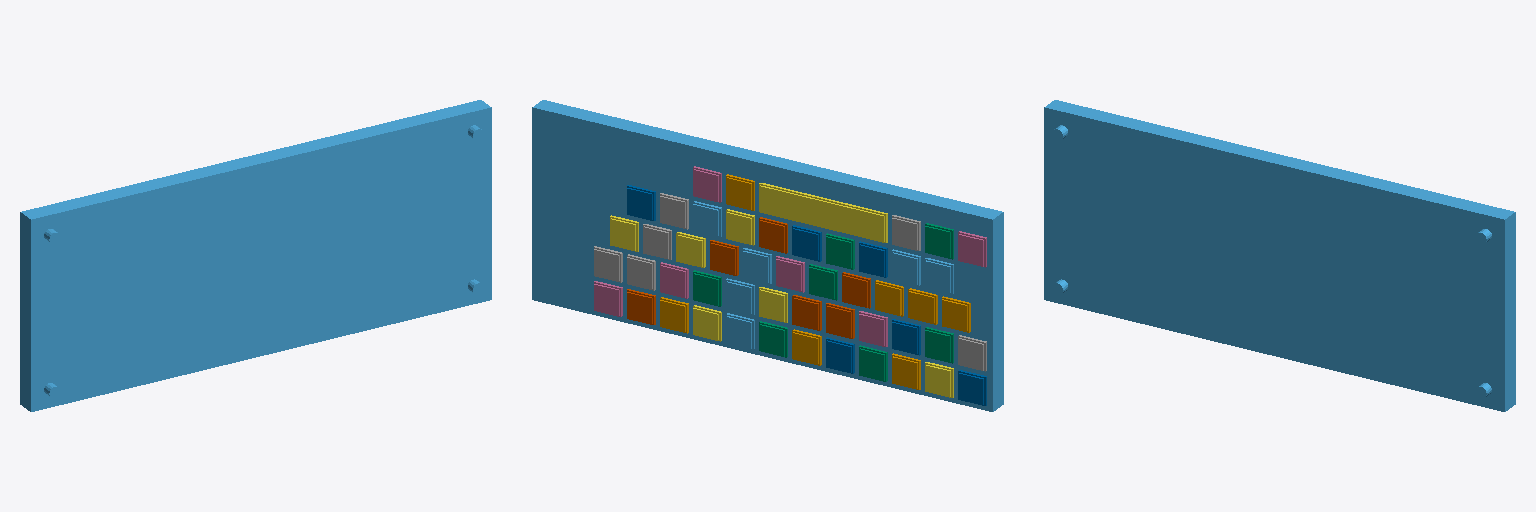
--- Facts derived from the render (not from the file) ---
The picture shows the robot from 3 angles, left to right: view 1: azimuth 30°, elevation 25°; view 2: azimuth 150°, elevation 25°; view 3: azimuth 330°, elevation 25°; orthographic projection.
Model a_keyboard_2 with 52 links and 51 joints (51 prismatic), rooted at base, posed every joint at zero.
Links seen in each view (by area): view 1: base; view 2: base, spacebar, key_r3_c4, key_r0_c5, key_r2_c1, key_r1_c5, key_r2_c8, key_alt_r, key_r0_c2, key_r1_c2, key_r3_c0, key_r3_c5 (+28 smaller); view 3: base.
Link boxes in pixels (x1,y1,x2,y2): base: (20,100,491,411); base: (532,100,1003,411); spacebar: (759,183,887,242); key_r3_c4: (792,225,821,261); key_r0_c5: (792,329,821,365); key_r2_c1: (908,288,937,324); key_r1_c5: (792,295,821,330); key_r2_c8: (676,232,705,267); key_alt_r: (726,174,754,210); key_r0_c2: (892,353,920,389); key_r1_c2: (892,319,920,355); key_r3_c0: (925,258,953,293); key_r3_c5: (759,217,787,253); base: (1044,100,1515,411).
Size in the robot's own frame: 25 by 1.75 by 10 metres.
Meshes: 52 distinct files referenced, 52 mesh visuals loaded (52 OBJ).

The robot description file, URDF, robot "a_keyboard_2":
<?xml version="1.0"?>
<robot name="a_keyboard_2">
  <link name="key_r2_c0">
    <visual>
      <geometry>
        <mesh filename="obj_parts/group_output/key_r2_c0.obj" />
      </geometry>
    </visual>
    <collision>
      <geometry>
        <mesh filename="obj_parts/group_output/key_r2_c0.obj" />
      </geometry>
    </collision>
    <inertial>
      <mass value="1.0" />
      <origin xyz="0 0 0" />
      <inertia ixx="1" ixy="0" ixz="0" iyy="1" iyz="0" izz="1" />
    </inertial>
  </link>
  <link name="base">
    <visual>
      <geometry>
        <mesh filename="obj_parts/group_output/base.obj" />
      </geometry>
    </visual>
    <collision>
      <geometry>
        <mesh filename="obj_parts/group_output/base.obj" />
      </geometry>
    </collision>
    <inertial>
      <mass value="1.0" />
      <origin xyz="0 0 0" />
      <inertia ixx="1" ixy="0" ixz="0" iyy="1" iyz="0" izz="1" />
    </inertial>
  </link>
  <link name="key_r0_c6">
    <visual>
      <geometry>
        <mesh filename="obj_parts/group_output/key_r0_c6.obj" />
      </geometry>
    </visual>
    <collision>
      <geometry>
        <mesh filename="obj_parts/group_output/key_r0_c6.obj" />
      </geometry>
    </collision>
    <inertial>
      <mass value="1.0" />
      <origin xyz="0 0 0" />
      <inertia ixx="1" ixy="0" ixz="0" iyy="1" iyz="0" izz="1" />
    </inertial>
  </link>
  <link name="key_r0_c8">
    <visual>
      <geometry>
        <mesh filename="obj_parts/group_output/key_r0_c8.obj" />
      </geometry>
    </visual>
    <collision>
      <geometry>
        <mesh filename="obj_parts/group_output/key_r0_c8.obj" />
      </geometry>
    </collision>
    <inertial>
      <mass value="1.0" />
      <origin xyz="0 0 0" />
      <inertia ixx="1" ixy="0" ixz="0" iyy="1" iyz="0" izz="1" />
    </inertial>
  </link>
  <link name="key_r1_c2">
    <visual>
      <geometry>
        <mesh filename="obj_parts/group_output/key_r1_c2.obj" />
      </geometry>
    </visual>
    <collision>
      <geometry>
        <mesh filename="obj_parts/group_output/key_r1_c2.obj" />
      </geometry>
    </collision>
    <inertial>
      <mass value="1.0" />
      <origin xyz="0 0 0" />
      <inertia ixx="1" ixy="0" ixz="0" iyy="1" iyz="0" izz="1" />
    </inertial>
  </link>
  <link name="key_r1_c5">
    <visual>
      <geometry>
        <mesh filename="obj_parts/group_output/key_r1_c5.obj" />
      </geometry>
    </visual>
    <collision>
      <geometry>
        <mesh filename="obj_parts/group_output/key_r1_c5.obj" />
      </geometry>
    </collision>
    <inertial>
      <mass value="1.0" />
      <origin xyz="0 0 0" />
      <inertia ixx="1" ixy="0" ixz="0" iyy="1" iyz="0" izz="1" />
    </inertial>
  </link>
  <link name="key_ctrl_r">
    <visual>
      <geometry>
        <mesh filename="obj_parts/group_output/key_ctrl_r.obj" />
      </geometry>
    </visual>
    <collision>
      <geometry>
        <mesh filename="obj_parts/group_output/key_ctrl_r.obj" />
      </geometry>
    </collision>
    <inertial>
      <mass value="1.0" />
      <origin xyz="0 0 0" />
      <inertia ixx="1" ixy="0" ixz="0" iyy="1" iyz="0" izz="1" />
    </inertial>
  </link>
  <link name="key_r1_c10">
    <visual>
      <geometry>
        <mesh filename="obj_parts/group_output/key_r1_c10.obj" />
      </geometry>
    </visual>
    <collision>
      <geometry>
        <mesh filename="obj_parts/group_output/key_r1_c10.obj" />
      </geometry>
    </collision>
    <inertial>
      <mass value="1.0" />
      <origin xyz="0 0 0" />
      <inertia ixx="1" ixy="0" ixz="0" iyy="1" iyz="0" izz="1" />
    </inertial>
  </link>
  <link name="key_alt_r">
    <visual>
      <geometry>
        <mesh filename="obj_parts/group_output/key_alt_r.obj" />
      </geometry>
    </visual>
    <collision>
      <geometry>
        <mesh filename="obj_parts/group_output/key_alt_r.obj" />
      </geometry>
    </collision>
    <inertial>
      <mass value="1.0" />
      <origin xyz="0 0 0" />
      <inertia ixx="1" ixy="0" ixz="0" iyy="1" iyz="0" izz="1" />
    </inertial>
  </link>
  <link name="key_r3_c0">
    <visual>
      <geometry>
        <mesh filename="obj_parts/group_output/key_r3_c0.obj" />
      </geometry>
    </visual>
    <collision>
      <geometry>
        <mesh filename="obj_parts/group_output/key_r3_c0.obj" />
      </geometry>
    </collision>
    <inertial>
      <mass value="1.0" />
      <origin xyz="0 0 0" />
      <inertia ixx="1" ixy="0" ixz="0" iyy="1" iyz="0" izz="1" />
    </inertial>
  </link>
  <link name="key_win_l">
    <visual>
      <geometry>
        <mesh filename="obj_parts/group_output/key_win_l.obj" />
      </geometry>
    </visual>
    <collision>
      <geometry>
        <mesh filename="obj_parts/group_output/key_win_l.obj" />
      </geometry>
    </collision>
    <inertial>
      <mass value="1.0" />
      <origin xyz="0 0 0" />
      <inertia ixx="1" ixy="0" ixz="0" iyy="1" iyz="0" izz="1" />
    </inertial>
  </link>
  <link name="key_r3_c6">
    <visual>
      <geometry>
        <mesh filename="obj_parts/group_output/key_r3_c6.obj" />
      </geometry>
    </visual>
    <collision>
      <geometry>
        <mesh filename="obj_parts/group_output/key_r3_c6.obj" />
      </geometry>
    </collision>
    <inertial>
      <mass value="1.0" />
      <origin xyz="0 0 0" />
      <inertia ixx="1" ixy="0" ixz="0" iyy="1" iyz="0" izz="1" />
    </inertial>
  </link>
  <link name="key_r3_c4">
    <visual>
      <geometry>
        <mesh filename="obj_parts/group_output/key_r3_c4.obj" />
      </geometry>
    </visual>
    <collision>
      <geometry>
        <mesh filename="obj_parts/group_output/key_r3_c4.obj" />
      </geometry>
    </collision>
    <inertial>
      <mass value="1.0" />
      <origin xyz="0 0 0" />
      <inertia ixx="1" ixy="0" ixz="0" iyy="1" iyz="0" izz="1" />
    </inertial>
  </link>
  <link name="key_r3_c5">
    <visual>
      <geometry>
        <mesh filename="obj_parts/group_output/key_r3_c5.obj" />
      </geometry>
    </visual>
    <collision>
      <geometry>
        <mesh filename="obj_parts/group_output/key_r3_c5.obj" />
      </geometry>
    </collision>
    <inertial>
      <mass value="1.0" />
      <origin xyz="0 0 0" />
      <inertia ixx="1" ixy="0" ixz="0" iyy="1" iyz="0" izz="1" />
    </inertial>
  </link>
  <link name="key_r2_c5">
    <visual>
      <geometry>
        <mesh filename="obj_parts/group_output/key_r2_c5.obj" />
      </geometry>
    </visual>
    <collision>
      <geometry>
        <mesh filename="obj_parts/group_output/key_r2_c5.obj" />
      </geometry>
    </collision>
    <inertial>
      <mass value="1.0" />
      <origin xyz="0 0 0" />
      <inertia ixx="1" ixy="0" ixz="0" iyy="1" iyz="0" izz="1" />
    </inertial>
  </link>
  <link name="key_r1_c0">
    <visual>
      <geometry>
        <mesh filename="obj_parts/group_output/key_r1_c0.obj" />
      </geometry>
    </visual>
    <collision>
      <geometry>
        <mesh filename="obj_parts/group_output/key_r1_c0.obj" />
      </geometry>
    </collision>
    <inertial>
      <mass value="1.0" />
      <origin xyz="0 0 0" />
      <inertia ixx="1" ixy="0" ixz="0" iyy="1" iyz="0" izz="1" />
    </inertial>
  </link>
  <link name="key_r0_c5">
    <visual>
      <geometry>
        <mesh filename="obj_parts/group_output/key_r0_c5.obj" />
      </geometry>
    </visual>
    <collision>
      <geometry>
        <mesh filename="obj_parts/group_output/key_r0_c5.obj" />
      </geometry>
    </collision>
    <inertial>
      <mass value="1.0" />
      <origin xyz="0 0 0" />
      <inertia ixx="1" ixy="0" ixz="0" iyy="1" iyz="0" izz="1" />
    </inertial>
  </link>
  <link name="key_r3_c1">
    <visual>
      <geometry>
        <mesh filename="obj_parts/group_output/key_r3_c1.obj" />
      </geometry>
    </visual>
    <collision>
      <geometry>
        <mesh filename="obj_parts/group_output/key_r3_c1.obj" />
      </geometry>
    </collision>
    <inertial>
      <mass value="1.0" />
      <origin xyz="0 0 0" />
      <inertia ixx="1" ixy="0" ixz="0" iyy="1" iyz="0" izz="1" />
    </inertial>
  </link>
  <link name="key_r2_c4">
    <visual>
      <geometry>
        <mesh filename="obj_parts/group_output/key_r2_c4.obj" />
      </geometry>
    </visual>
    <collision>
      <geometry>
        <mesh filename="obj_parts/group_output/key_r2_c4.obj" />
      </geometry>
    </collision>
    <inertial>
      <mass value="1.0" />
      <origin xyz="0 0 0" />
      <inertia ixx="1" ixy="0" ixz="0" iyy="1" iyz="0" izz="1" />
    </inertial>
  </link>
  <link name="key_r1_c6">
    <visual>
      <geometry>
        <mesh filename="obj_parts/group_output/key_r1_c6.obj" />
      </geometry>
    </visual>
    <collision>
      <geometry>
        <mesh filename="obj_parts/group_output/key_r1_c6.obj" />
      </geometry>
    </collision>
    <inertial>
      <mass value="1.0" />
      <origin xyz="0 0 0" />
      <inertia ixx="1" ixy="0" ixz="0" iyy="1" iyz="0" izz="1" />
    </inertial>
  </link>
  <link name="key_r3_c2">
    <visual>
      <geometry>
        <mesh filename="obj_parts/group_output/key_r3_c2.obj" />
      </geometry>
    </visual>
    <collision>
      <geometry>
        <mesh filename="obj_parts/group_output/key_r3_c2.obj" />
      </geometry>
    </collision>
    <inertial>
      <mass value="1.0" />
      <origin xyz="0 0 0" />
      <inertia ixx="1" ixy="0" ixz="0" iyy="1" iyz="0" izz="1" />
    </inertial>
  </link>
  <link name="key_r2_c7">
    <visual>
      <geometry>
        <mesh filename="obj_parts/group_output/key_r2_c7.obj" />
      </geometry>
    </visual>
    <collision>
      <geometry>
        <mesh filename="obj_parts/group_output/key_r2_c7.obj" />
      </geometry>
    </collision>
    <inertial>
      <mass value="1.0" />
      <origin xyz="0 0 0" />
      <inertia ixx="1" ixy="0" ixz="0" iyy="1" iyz="0" izz="1" />
    </inertial>
  </link>
  <link name="key_ctrl_l">
    <visual>
      <geometry>
        <mesh filename="obj_parts/group_output/key_ctrl_l.obj" />
      </geometry>
    </visual>
    <collision>
      <geometry>
        <mesh filename="obj_parts/group_output/key_ctrl_l.obj" />
      </geometry>
    </collision>
    <inertial>
      <mass value="1.0" />
      <origin xyz="0 0 0" />
      <inertia ixx="1" ixy="0" ixz="0" iyy="1" iyz="0" izz="1" />
    </inertial>
  </link>
  <link name="key_alt_l">
    <visual>
      <geometry>
        <mesh filename="obj_parts/group_output/key_alt_l.obj" />
      </geometry>
    </visual>
    <collision>
      <geometry>
        <mesh filename="obj_parts/group_output/key_alt_l.obj" />
      </geometry>
    </collision>
    <inertial>
      <mass value="1.0" />
      <origin xyz="0 0 0" />
      <inertia ixx="1" ixy="0" ixz="0" iyy="1" iyz="0" izz="1" />
    </inertial>
  </link>
  <link name="key_r0_c9">
    <visual>
      <geometry>
        <mesh filename="obj_parts/group_output/key_r0_c9.obj" />
      </geometry>
    </visual>
    <collision>
      <geometry>
        <mesh filename="obj_parts/group_output/key_r0_c9.obj" />
      </geometry>
    </collision>
    <inertial>
      <mass value="1.0" />
      <origin xyz="0 0 0" />
      <inertia ixx="1" ixy="0" ixz="0" iyy="1" iyz="0" izz="1" />
    </inertial>
  </link>
  <link name="key_r2_c6">
    <visual>
      <geometry>
        <mesh filename="obj_parts/group_output/key_r2_c6.obj" />
      </geometry>
    </visual>
    <collision>
      <geometry>
        <mesh filename="obj_parts/group_output/key_r2_c6.obj" />
      </geometry>
    </collision>
    <inertial>
      <mass value="1.0" />
      <origin xyz="0 0 0" />
      <inertia ixx="1" ixy="0" ixz="0" iyy="1" iyz="0" izz="1" />
    </inertial>
  </link>
  <link name="key_r1_c1">
    <visual>
      <geometry>
        <mesh filename="obj_parts/group_output/key_r1_c1.obj" />
      </geometry>
    </visual>
    <collision>
      <geometry>
        <mesh filename="obj_parts/group_output/key_r1_c1.obj" />
      </geometry>
    </collision>
    <inertial>
      <mass value="1.0" />
      <origin xyz="0 0 0" />
      <inertia ixx="1" ixy="0" ixz="0" iyy="1" iyz="0" izz="1" />
    </inertial>
  </link>
  <link name="key_r2_c8">
    <visual>
      <geometry>
        <mesh filename="obj_parts/group_output/key_r2_c8.obj" />
      </geometry>
    </visual>
    <collision>
      <geometry>
        <mesh filename="obj_parts/group_output/key_r2_c8.obj" />
      </geometry>
    </collision>
    <inertial>
      <mass value="1.0" />
      <origin xyz="0 0 0" />
      <inertia ixx="1" ixy="0" ixz="0" iyy="1" iyz="0" izz="1" />
    </inertial>
  </link>
  <link name="key_r0_c0">
    <visual>
      <geometry>
        <mesh filename="obj_parts/group_output/key_r0_c0.obj" />
      </geometry>
    </visual>
    <collision>
      <geometry>
        <mesh filename="obj_parts/group_output/key_r0_c0.obj" />
      </geometry>
    </collision>
    <inertial>
      <mass value="1.0" />
      <origin xyz="0 0 0" />
      <inertia ixx="1" ixy="0" ixz="0" iyy="1" iyz="0" izz="1" />
    </inertial>
  </link>
  <link name="key_r2_c3">
    <visual>
      <geometry>
        <mesh filename="obj_parts/group_output/key_r2_c3.obj" />
      </geometry>
    </visual>
    <collision>
      <geometry>
        <mesh filename="obj_parts/group_output/key_r2_c3.obj" />
      </geometry>
    </collision>
    <inertial>
      <mass value="1.0" />
      <origin xyz="0 0 0" />
      <inertia ixx="1" ixy="0" ixz="0" iyy="1" iyz="0" izz="1" />
    </inertial>
  </link>
  <link name="key_r1_c3">
    <visual>
      <geometry>
        <mesh filename="obj_parts/group_output/key_r1_c3.obj" />
      </geometry>
    </visual>
    <collision>
      <geometry>
        <mesh filename="obj_parts/group_output/key_r1_c3.obj" />
      </geometry>
    </collision>
    <inertial>
      <mass value="1.0" />
      <origin xyz="0 0 0" />
      <inertia ixx="1" ixy="0" ixz="0" iyy="1" iyz="0" izz="1" />
    </inertial>
  </link>
  <link name="key_r3_c8">
    <visual>
      <geometry>
        <mesh filename="obj_parts/group_output/key_r3_c8.obj" />
      </geometry>
    </visual>
    <collision>
      <geometry>
        <mesh filename="obj_parts/group_output/key_r3_c8.obj" />
      </geometry>
    </collision>
    <inertial>
      <mass value="1.0" />
      <origin xyz="0 0 0" />
      <inertia ixx="1" ixy="0" ixz="0" iyy="1" iyz="0" izz="1" />
    </inertial>
  </link>
  <link name="key_r0_c2">
    <visual>
      <geometry>
        <mesh filename="obj_parts/group_output/key_r0_c2.obj" />
      </geometry>
    </visual>
    <collision>
      <geometry>
        <mesh filename="obj_parts/group_output/key_r0_c2.obj" />
      </geometry>
    </collision>
    <inertial>
      <mass value="1.0" />
      <origin xyz="0 0 0" />
      <inertia ixx="1" ixy="0" ixz="0" iyy="1" iyz="0" izz="1" />
    </inertial>
  </link>
  <link name="key_r1_c7">
    <visual>
      <geometry>
        <mesh filename="obj_parts/group_output/key_r1_c7.obj" />
      </geometry>
    </visual>
    <collision>
      <geometry>
        <mesh filename="obj_parts/group_output/key_r1_c7.obj" />
      </geometry>
    </collision>
    <inertial>
      <mass value="1.0" />
      <origin xyz="0 0 0" />
      <inertia ixx="1" ixy="0" ixz="0" iyy="1" iyz="0" izz="1" />
    </inertial>
  </link>
  <link name="key_r3_c3">
    <visual>
      <geometry>
        <mesh filename="obj_parts/group_output/key_r3_c3.obj" />
      </geometry>
    </visual>
    <collision>
      <geometry>
        <mesh filename="obj_parts/group_output/key_r3_c3.obj" />
      </geometry>
    </collision>
    <inertial>
      <mass value="1.0" />
      <origin xyz="0 0 0" />
      <inertia ixx="1" ixy="0" ixz="0" iyy="1" iyz="0" izz="1" />
    </inertial>
  </link>
  <link name="spacebar">
    <visual>
      <geometry>
        <mesh filename="obj_parts/group_output/spacebar.obj" />
      </geometry>
    </visual>
    <collision>
      <geometry>
        <mesh filename="obj_parts/group_output/spacebar.obj" />
      </geometry>
    </collision>
    <inertial>
      <mass value="1.0" />
      <origin xyz="0 0 0" />
      <inertia ixx="1" ixy="0" ixz="0" iyy="1" iyz="0" izz="1" />
    </inertial>
  </link>
  <link name="key_r0_c4">
    <visual>
      <geometry>
        <mesh filename="obj_parts/group_output/key_r0_c4.obj" />
      </geometry>
    </visual>
    <collision>
      <geometry>
        <mesh filename="obj_parts/group_output/key_r0_c4.obj" />
      </geometry>
    </collision>
    <inertial>
      <mass value="1.0" />
      <origin xyz="0 0 0" />
      <inertia ixx="1" ixy="0" ixz="0" iyy="1" iyz="0" izz="1" />
    </inertial>
  </link>
  <link name="key_r1_c4">
    <visual>
      <geometry>
        <mesh filename="obj_parts/group_output/key_r1_c4.obj" />
      </geometry>
    </visual>
    <collision>
      <geometry>
        <mesh filename="obj_parts/group_output/key_r1_c4.obj" />
      </geometry>
    </collision>
    <inertial>
      <mass value="1.0" />
      <origin xyz="0 0 0" />
      <inertia ixx="1" ixy="0" ixz="0" iyy="1" iyz="0" izz="1" />
    </inertial>
  </link>
  <link name="key_r1_c9">
    <visual>
      <geometry>
        <mesh filename="obj_parts/group_output/key_r1_c9.obj" />
      </geometry>
    </visual>
    <collision>
      <geometry>
        <mesh filename="obj_parts/group_output/key_r1_c9.obj" />
      </geometry>
    </collision>
    <inertial>
      <mass value="1.0" />
      <origin xyz="0 0 0" />
      <inertia ixx="1" ixy="0" ixz="0" iyy="1" iyz="0" izz="1" />
    </inertial>
  </link>
  <link name="key_r2_c9">
    <visual>
      <geometry>
        <mesh filename="obj_parts/group_output/key_r2_c9.obj" />
      </geometry>
    </visual>
    <collision>
      <geometry>
        <mesh filename="obj_parts/group_output/key_r2_c9.obj" />
      </geometry>
    </collision>
    <inertial>
      <mass value="1.0" />
      <origin xyz="0 0 0" />
      <inertia ixx="1" ixy="0" ixz="0" iyy="1" iyz="0" izz="1" />
    </inertial>
  </link>
  <link name="key_r2_c1">
    <visual>
      <geometry>
        <mesh filename="obj_parts/group_output/key_r2_c1.obj" />
      </geometry>
    </visual>
    <collision>
      <geometry>
        <mesh filename="obj_parts/group_output/key_r2_c1.obj" />
      </geometry>
    </collision>
    <inertial>
      <mass value="1.0" />
      <origin xyz="0 0 0" />
      <inertia ixx="1" ixy="0" ixz="0" iyy="1" iyz="0" izz="1" />
    </inertial>
  </link>
  <link name="key_r3_c7">
    <visual>
      <geometry>
        <mesh filename="obj_parts/group_output/key_r3_c7.obj" />
      </geometry>
    </visual>
    <collision>
      <geometry>
        <mesh filename="obj_parts/group_output/key_r3_c7.obj" />
      </geometry>
    </collision>
    <inertial>
      <mass value="1.0" />
      <origin xyz="0 0 0" />
      <inertia ixx="1" ixy="0" ixz="0" iyy="1" iyz="0" izz="1" />
    </inertial>
  </link>
  <link name="key_r1_c8">
    <visual>
      <geometry>
        <mesh filename="obj_parts/group_output/key_r1_c8.obj" />
      </geometry>
    </visual>
    <collision>
      <geometry>
        <mesh filename="obj_parts/group_output/key_r1_c8.obj" />
      </geometry>
    </collision>
    <inertial>
      <mass value="1.0" />
      <origin xyz="0 0 0" />
      <inertia ixx="1" ixy="0" ixz="0" iyy="1" iyz="0" izz="1" />
    </inertial>
  </link>
  <link name="key_r2_c10">
    <visual>
      <geometry>
        <mesh filename="obj_parts/group_output/key_r2_c10.obj" />
      </geometry>
    </visual>
    <collision>
      <geometry>
        <mesh filename="obj_parts/group_output/key_r2_c10.obj" />
      </geometry>
    </collision>
    <inertial>
      <mass value="1.0" />
      <origin xyz="0 0 0" />
      <inertia ixx="1" ixy="0" ixz="0" iyy="1" iyz="0" izz="1" />
    </inertial>
  </link>
  <link name="key_r3_c9">
    <visual>
      <geometry>
        <mesh filename="obj_parts/group_output/key_r3_c9.obj" />
      </geometry>
    </visual>
    <collision>
      <geometry>
        <mesh filename="obj_parts/group_output/key_r3_c9.obj" />
      </geometry>
    </collision>
    <inertial>
      <mass value="1.0" />
      <origin xyz="0 0 0" />
      <inertia ixx="1" ixy="0" ixz="0" iyy="1" iyz="0" izz="1" />
    </inertial>
  </link>
  <link name="key_r0_c10">
    <visual>
      <geometry>
        <mesh filename="obj_parts/group_output/key_r0_c10.obj" />
      </geometry>
    </visual>
    <collision>
      <geometry>
        <mesh filename="obj_parts/group_output/key_r0_c10.obj" />
      </geometry>
    </collision>
    <inertial>
      <mass value="1.0" />
      <origin xyz="0 0 0" />
      <inertia ixx="1" ixy="0" ixz="0" iyy="1" iyz="0" izz="1" />
    </inertial>
  </link>
  <link name="key_r0_c11">
    <visual>
      <geometry>
        <mesh filename="obj_parts/group_output/key_r0_c11.obj" />
      </geometry>
    </visual>
    <collision>
      <geometry>
        <mesh filename="obj_parts/group_output/key_r0_c11.obj" />
      </geometry>
    </collision>
    <inertial>
      <mass value="1.0" />
      <origin xyz="0 0 0" />
      <inertia ixx="1" ixy="0" ixz="0" iyy="1" iyz="0" izz="1" />
    </inertial>
  </link>
  <link name="key_r1_c11">
    <visual>
      <geometry>
        <mesh filename="obj_parts/group_output/key_r1_c11.obj" />
      </geometry>
    </visual>
    <collision>
      <geometry>
        <mesh filename="obj_parts/group_output/key_r1_c11.obj" />
      </geometry>
    </collision>
    <inertial>
      <mass value="1.0" />
      <origin xyz="0 0 0" />
      <inertia ixx="1" ixy="0" ixz="0" iyy="1" iyz="0" izz="1" />
    </inertial>
  </link>
  <link name="key_r2_c2">
    <visual>
      <geometry>
        <mesh filename="obj_parts/group_output/key_r2_c2.obj" />
      </geometry>
    </visual>
    <collision>
      <geometry>
        <mesh filename="obj_parts/group_output/key_r2_c2.obj" />
      </geometry>
    </collision>
    <inertial>
      <mass value="1.0" />
      <origin xyz="0 0 0" />
      <inertia ixx="1" ixy="0" ixz="0" iyy="1" iyz="0" izz="1" />
    </inertial>
  </link>
  <link name="key_r0_c7">
    <visual>
      <geometry>
        <mesh filename="obj_parts/group_output/key_r0_c7.obj" />
      </geometry>
    </visual>
    <collision>
      <geometry>
        <mesh filename="obj_parts/group_output/key_r0_c7.obj" />
      </geometry>
    </collision>
    <inertial>
      <mass value="1.0" />
      <origin xyz="0 0 0" />
      <inertia ixx="1" ixy="0" ixz="0" iyy="1" iyz="0" izz="1" />
    </inertial>
  </link>
  <link name="key_r0_c3">
    <visual>
      <geometry>
        <mesh filename="obj_parts/group_output/key_r0_c3.obj" />
      </geometry>
    </visual>
    <collision>
      <geometry>
        <mesh filename="obj_parts/group_output/key_r0_c3.obj" />
      </geometry>
    </collision>
    <inertial>
      <mass value="1.0" />
      <origin xyz="0 0 0" />
      <inertia ixx="1" ixy="0" ixz="0" iyy="1" iyz="0" izz="1" />
    </inertial>
  </link>
  <link name="key_r0_c1">
    <visual>
      <geometry>
        <mesh filename="obj_parts/group_output/key_r0_c1.obj" />
      </geometry>
    </visual>
    <collision>
      <geometry>
        <mesh filename="obj_parts/group_output/key_r0_c1.obj" />
      </geometry>
    </collision>
    <inertial>
      <mass value="1.0" />
      <origin xyz="0 0 0" />
      <inertia ixx="1" ixy="0" ixz="0" iyy="1" iyz="0" izz="1" />
    </inertial>
  </link>
  <joint name="base_to_key_r0_c0" type="prismatic">
    <parent link="base" />
    <child link="key_r0_c0" />
    <origin xyz="0 0 0" rpy="0 0 0" />
    <axis xyz="0 -1 0" />
    <limit lower="-0.4" upper="0.0" effort="1.0" velocity="0.5" />
  </joint>
  <joint name="base_to_key_r0_c1" type="prismatic">
    <parent link="base" />
    <child link="key_r0_c1" />
    <origin xyz="0 0 0" rpy="0 0 0" />
    <axis xyz="0 -1 0" />
    <limit lower="-0.4" upper="0.0" effort="1.0" velocity="0.5" />
  </joint>
  <joint name="base_to_key_r0_c2" type="prismatic">
    <parent link="base" />
    <child link="key_r0_c2" />
    <origin xyz="0 0 0" rpy="0 0 0" />
    <axis xyz="0 -1 0" />
    <limit lower="-0.4" upper="0.0" effort="1.0" velocity="0.5" />
  </joint>
  <joint name="base_to_key_r0_c3" type="prismatic">
    <parent link="base" />
    <child link="key_r0_c3" />
    <origin xyz="0 0 0" rpy="0 0 0" />
    <axis xyz="0 -1 0" />
    <limit lower="-0.4" upper="0.0" effort="1.0" velocity="0.5" />
  </joint>
  <joint name="base_to_key_r0_c4" type="prismatic">
    <parent link="base" />
    <child link="key_r0_c4" />
    <origin xyz="0 0 0" rpy="0 0 0" />
    <axis xyz="0 -1 0" />
    <limit lower="-0.4" upper="0.0" effort="1.0" velocity="0.5" />
  </joint>
  <joint name="base_to_key_r0_c5" type="prismatic">
    <parent link="base" />
    <child link="key_r0_c5" />
    <origin xyz="0 0 0" rpy="0 0 0" />
    <axis xyz="0 -1 0" />
    <limit lower="-0.4" upper="0.0" effort="1.0" velocity="0.5" />
  </joint>
  <joint name="base_to_key_r0_c6" type="prismatic">
    <parent link="base" />
    <child link="key_r0_c6" />
    <origin xyz="0 0 0" rpy="0 0 0" />
    <axis xyz="0 -1 0" />
    <limit lower="-0.4" upper="0.0" effort="1.0" velocity="0.5" />
  </joint>
  <joint name="base_to_key_r0_c7" type="prismatic">
    <parent link="base" />
    <child link="key_r0_c7" />
    <origin xyz="0 0 0" rpy="0 0 0" />
    <axis xyz="0 -1 0" />
    <limit lower="-0.4" upper="0.0" effort="1.0" velocity="0.5" />
  </joint>
  <joint name="base_to_key_r0_c8" type="prismatic">
    <parent link="base" />
    <child link="key_r0_c8" />
    <origin xyz="0 0 0" rpy="0 0 0" />
    <axis xyz="0 -1 0" />
    <limit lower="-0.4" upper="0.0" effort="1.0" velocity="0.5" />
  </joint>
  <joint name="base_to_key_r0_c9" type="prismatic">
    <parent link="base" />
    <child link="key_r0_c9" />
    <origin xyz="0 0 0" rpy="0 0 0" />
    <axis xyz="0 -1 0" />
    <limit lower="-0.4" upper="0.0" effort="1.0" velocity="0.5" />
  </joint>
  <joint name="base_to_key_r0_c10" type="prismatic">
    <parent link="base" />
    <child link="key_r0_c10" />
    <origin xyz="0 0 0" rpy="0 0 0" />
    <axis xyz="0 -1 0" />
    <limit lower="-0.4" upper="0.0" effort="1.0" velocity="0.5" />
  </joint>
  <joint name="base_to_key_r0_c11" type="prismatic">
    <parent link="base" />
    <child link="key_r0_c11" />
    <origin xyz="0 0 0" rpy="0 0 0" />
    <axis xyz="0 -1 0" />
    <limit lower="-0.4" upper="0.0" effort="1.0" velocity="0.5" />
  </joint>
  <joint name="base_to_key_r1_c0" type="prismatic">
    <parent link="base" />
    <child link="key_r1_c0" />
    <origin xyz="0 0 0" rpy="0 0 0" />
    <axis xyz="0 -1 0" />
    <limit lower="-0.4" upper="0.0" effort="1.0" velocity="0.5" />
  </joint>
  <joint name="base_to_key_r1_c1" type="prismatic">
    <parent link="base" />
    <child link="key_r1_c1" />
    <origin xyz="0 0 0" rpy="0 0 0" />
    <axis xyz="0 -1 0" />
    <limit lower="-0.4" upper="0.0" effort="1.0" velocity="0.5" />
  </joint>
  <joint name="base_to_key_r1_c2" type="prismatic">
    <parent link="base" />
    <child link="key_r1_c2" />
    <origin xyz="0 0 0" rpy="0 0 0" />
    <axis xyz="0 -1 0" />
    <limit lower="-0.4" upper="0.0" effort="1.0" velocity="0.5" />
  </joint>
  <joint name="base_to_key_r1_c3" type="prismatic">
    <parent link="base" />
    <child link="key_r1_c3" />
    <origin xyz="0 0 0" rpy="0 0 0" />
    <axis xyz="0 -1 0" />
    <limit lower="-0.4" upper="0.0" effort="1.0" velocity="0.5" />
  </joint>
  <joint name="base_to_key_r1_c4" type="prismatic">
    <parent link="base" />
    <child link="key_r1_c4" />
    <origin xyz="0 0 0" rpy="0 0 0" />
    <axis xyz="0 -1 0" />
    <limit lower="-0.4" upper="0.0" effort="1.0" velocity="0.5" />
  </joint>
  <joint name="base_to_key_r1_c5" type="prismatic">
    <parent link="base" />
    <child link="key_r1_c5" />
    <origin xyz="0 0 0" rpy="0 0 0" />
    <axis xyz="0 -1 0" />
    <limit lower="-0.4" upper="0.0" effort="1.0" velocity="0.5" />
  </joint>
  <joint name="base_to_key_r1_c6" type="prismatic">
    <parent link="base" />
    <child link="key_r1_c6" />
    <origin xyz="0 0 0" rpy="0 0 0" />
    <axis xyz="0 -1 0" />
    <limit lower="-0.4" upper="0.0" effort="1.0" velocity="0.5" />
  </joint>
  <joint name="base_to_key_r1_c7" type="prismatic">
    <parent link="base" />
    <child link="key_r1_c7" />
    <origin xyz="0 0 0" rpy="0 0 0" />
    <axis xyz="0 -1 0" />
    <limit lower="-0.4" upper="0.0" effort="1.0" velocity="0.5" />
  </joint>
  <joint name="base_to_key_r1_c8" type="prismatic">
    <parent link="base" />
    <child link="key_r1_c8" />
    <origin xyz="0 0 0" rpy="0 0 0" />
    <axis xyz="0 -1 0" />
    <limit lower="-0.4" upper="0.0" effort="1.0" velocity="0.5" />
  </joint>
  <joint name="base_to_key_r1_c9" type="prismatic">
    <parent link="base" />
    <child link="key_r1_c9" />
    <origin xyz="0 0 0" rpy="0 0 0" />
    <axis xyz="0 -1 0" />
    <limit lower="-0.4" upper="0.0" effort="1.0" velocity="0.5" />
  </joint>
  <joint name="base_to_key_r1_c10" type="prismatic">
    <parent link="base" />
    <child link="key_r1_c10" />
    <origin xyz="0 0 0" rpy="0 0 0" />
    <axis xyz="0 -1 0" />
    <limit lower="-0.4" upper="0.0" effort="1.0" velocity="0.5" />
  </joint>
  <joint name="base_to_key_r1_c11" type="prismatic">
    <parent link="base" />
    <child link="key_r1_c11" />
    <origin xyz="0 0 0" rpy="0 0 0" />
    <axis xyz="0 -1 0" />
    <limit lower="-0.4" upper="0.0" effort="1.0" velocity="0.5" />
  </joint>
  <joint name="base_to_key_r2_c0" type="prismatic">
    <parent link="base" />
    <child link="key_r2_c0" />
    <origin xyz="0 0 0" rpy="0 0 0" />
    <axis xyz="0 -1 0" />
    <limit lower="-0.4" upper="0.0" effort="1.0" velocity="0.5" />
  </joint>
  <joint name="base_to_key_r2_c1" type="prismatic">
    <parent link="base" />
    <child link="key_r2_c1" />
    <origin xyz="0 0 0" rpy="0 0 0" />
    <axis xyz="0 -1 0" />
    <limit lower="-0.4" upper="0.0" effort="1.0" velocity="0.5" />
  </joint>
  <joint name="base_to_key_r2_c2" type="prismatic">
    <parent link="base" />
    <child link="key_r2_c2" />
    <origin xyz="0 0 0" rpy="0 0 0" />
    <axis xyz="0 -1 0" />
    <limit lower="-0.4" upper="0.0" effort="1.0" velocity="0.5" />
  </joint>
  <joint name="base_to_key_r2_c3" type="prismatic">
    <parent link="base" />
    <child link="key_r2_c3" />
    <origin xyz="0 0 0" rpy="0 0 0" />
    <axis xyz="0 -1 0" />
    <limit lower="-0.4" upper="0.0" effort="1.0" velocity="0.5" />
  </joint>
  <joint name="base_to_key_r2_c4" type="prismatic">
    <parent link="base" />
    <child link="key_r2_c4" />
    <origin xyz="0 0 0" rpy="0 0 0" />
    <axis xyz="0 -1 0" />
    <limit lower="-0.4" upper="0.0" effort="1.0" velocity="0.5" />
  </joint>
  <joint name="base_to_key_r2_c5" type="prismatic">
    <parent link="base" />
    <child link="key_r2_c5" />
    <origin xyz="0 0 0" rpy="0 0 0" />
    <axis xyz="0 -1 0" />
    <limit lower="-0.4" upper="0.0" effort="1.0" velocity="0.5" />
  </joint>
  <joint name="base_to_key_r2_c6" type="prismatic">
    <parent link="base" />
    <child link="key_r2_c6" />
    <origin xyz="0 0 0" rpy="0 0 0" />
    <axis xyz="0 -1 0" />
    <limit lower="-0.4" upper="0.0" effort="1.0" velocity="0.5" />
  </joint>
  <joint name="base_to_key_r2_c7" type="prismatic">
    <parent link="base" />
    <child link="key_r2_c7" />
    <origin xyz="0 0 0" rpy="0 0 0" />
    <axis xyz="0 -1 0" />
    <limit lower="-0.4" upper="0.0" effort="1.0" velocity="0.5" />
  </joint>
  <joint name="base_to_key_r2_c8" type="prismatic">
    <parent link="base" />
    <child link="key_r2_c8" />
    <origin xyz="0 0 0" rpy="0 0 0" />
    <axis xyz="0 -1 0" />
    <limit lower="-0.4" upper="0.0" effort="1.0" velocity="0.5" />
  </joint>
  <joint name="base_to_key_r2_c9" type="prismatic">
    <parent link="base" />
    <child link="key_r2_c9" />
    <origin xyz="0 0 0" rpy="0 0 0" />
    <axis xyz="0 -1 0" />
    <limit lower="-0.4" upper="0.0" effort="1.0" velocity="0.5" />
  </joint>
  <joint name="base_to_key_r2_c10" type="prismatic">
    <parent link="base" />
    <child link="key_r2_c10" />
    <origin xyz="0 0 0" rpy="0 0 0" />
    <axis xyz="0 -1 0" />
    <limit lower="-0.4" upper="0.0" effort="1.0" velocity="0.5" />
  </joint>
  <joint name="base_to_key_r3_c0" type="prismatic">
    <parent link="base" />
    <child link="key_r3_c0" />
    <origin xyz="0 0 0" rpy="0 0 0" />
    <axis xyz="0 -1 0" />
    <limit lower="-0.4" upper="0.0" effort="1.0" velocity="0.5" />
  </joint>
  <joint name="base_to_key_r3_c1" type="prismatic">
    <parent link="base" />
    <child link="key_r3_c1" />
    <origin xyz="0 0 0" rpy="0 0 0" />
    <axis xyz="0 -1 0" />
    <limit lower="-0.4" upper="0.0" effort="1.0" velocity="0.5" />
  </joint>
  <joint name="base_to_key_r3_c2" type="prismatic">
    <parent link="base" />
    <child link="key_r3_c2" />
    <origin xyz="0 0 0" rpy="0 0 0" />
    <axis xyz="0 -1 0" />
    <limit lower="-0.4" upper="0.0" effort="1.0" velocity="0.5" />
  </joint>
  <joint name="base_to_key_r3_c3" type="prismatic">
    <parent link="base" />
    <child link="key_r3_c3" />
    <origin xyz="0 0 0" rpy="0 0 0" />
    <axis xyz="0 -1 0" />
    <limit lower="-0.4" upper="0.0" effort="1.0" velocity="0.5" />
  </joint>
  <joint name="base_to_key_r3_c4" type="prismatic">
    <parent link="base" />
    <child link="key_r3_c4" />
    <origin xyz="0 0 0" rpy="0 0 0" />
    <axis xyz="0 -1 0" />
    <limit lower="-0.4" upper="0.0" effort="1.0" velocity="0.5" />
  </joint>
  <joint name="base_to_key_r3_c5" type="prismatic">
    <parent link="base" />
    <child link="key_r3_c5" />
    <origin xyz="0 0 0" rpy="0 0 0" />
    <axis xyz="0 -1 0" />
    <limit lower="-0.4" upper="0.0" effort="1.0" velocity="0.5" />
  </joint>
  <joint name="base_to_key_r3_c6" type="prismatic">
    <parent link="base" />
    <child link="key_r3_c6" />
    <origin xyz="0 0 0" rpy="0 0 0" />
    <axis xyz="0 -1 0" />
    <limit lower="-0.4" upper="0.0" effort="1.0" velocity="0.5" />
  </joint>
  <joint name="base_to_key_r3_c7" type="prismatic">
    <parent link="base" />
    <child link="key_r3_c7" />
    <origin xyz="0 0 0" rpy="0 0 0" />
    <axis xyz="0 -1 0" />
    <limit lower="-0.4" upper="0.0" effort="1.0" velocity="0.5" />
  </joint>
  <joint name="base_to_key_r3_c8" type="prismatic">
    <parent link="base" />
    <child link="key_r3_c8" />
    <origin xyz="0 0 0" rpy="0 0 0" />
    <axis xyz="0 -1 0" />
    <limit lower="-0.4" upper="0.0" effort="1.0" velocity="0.5" />
  </joint>
  <joint name="base_to_key_r3_c9" type="prismatic">
    <parent link="base" />
    <child link="key_r3_c9" />
    <origin xyz="0 0 0" rpy="0 0 0" />
    <axis xyz="0 -1 0" />
    <limit lower="-0.4" upper="0.0" effort="1.0" velocity="0.5" />
  </joint>
  <joint name="base_to_key_ctrl_l" type="prismatic">
    <parent link="base" />
    <child link="key_ctrl_l" />
    <origin xyz="0 0 0" rpy="0 0 0" />
    <axis xyz="0 -1 0" />
    <limit lower="-0.4" upper="0.0" effort="1.0" velocity="0.5" />
  </joint>
  <joint name="base_to_key_win_l" type="prismatic">
    <parent link="base" />
    <child link="key_win_l" />
    <origin xyz="0 0 0" rpy="0 0 0" />
    <axis xyz="0 -1 0" />
    <limit lower="-0.4" upper="0.0" effort="1.0" velocity="0.5" />
  </joint>
  <joint name="base_to_key_alt_l" type="prismatic">
    <parent link="base" />
    <child link="key_alt_l" />
    <origin xyz="0 0 0" rpy="0 0 0" />
    <axis xyz="0 -1 0" />
    <limit lower="-0.4" upper="0.0" effort="1.0" velocity="0.5" />
  </joint>
  <joint name="base_to_spacebar" type="prismatic">
    <parent link="base" />
    <child link="spacebar" />
    <origin xyz="0 0 0" rpy="0 0 0" />
    <axis xyz="0 -1 0" />
    <limit lower="-0.4" upper="0.0" effort="1.0" velocity="0.5" />
  </joint>
  <joint name="base_to_key_alt_r" type="prismatic">
    <parent link="base" />
    <child link="key_alt_r" />
    <origin xyz="0 0 0" rpy="0 0 0" />
    <axis xyz="0 -1 0" />
    <limit lower="-0.4" upper="0.0" effort="1.0" velocity="0.5" />
  </joint>
  <joint name="base_to_key_ctrl_r" type="prismatic">
    <parent link="base" />
    <child link="key_ctrl_r" />
    <origin xyz="0 0 0" rpy="0 0 0" />
    <axis xyz="0 -1 0" />
    <limit lower="-0.4" upper="0.0" effort="1.0" velocity="0.5" />
  </joint>
</robot>
